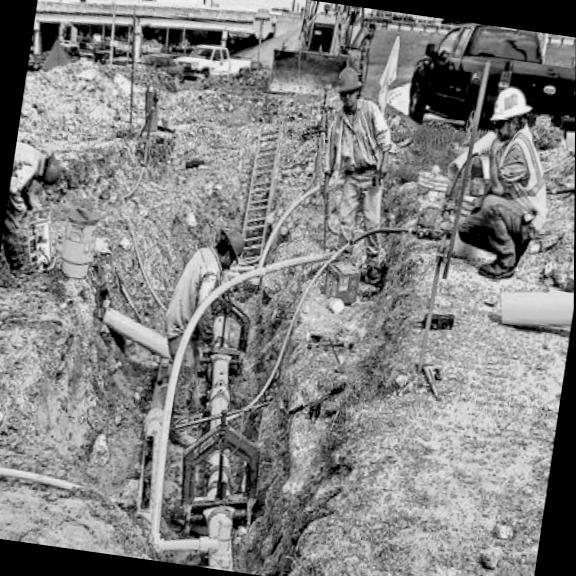safety_vest: (487, 124, 564, 235), (324, 94, 393, 190)
